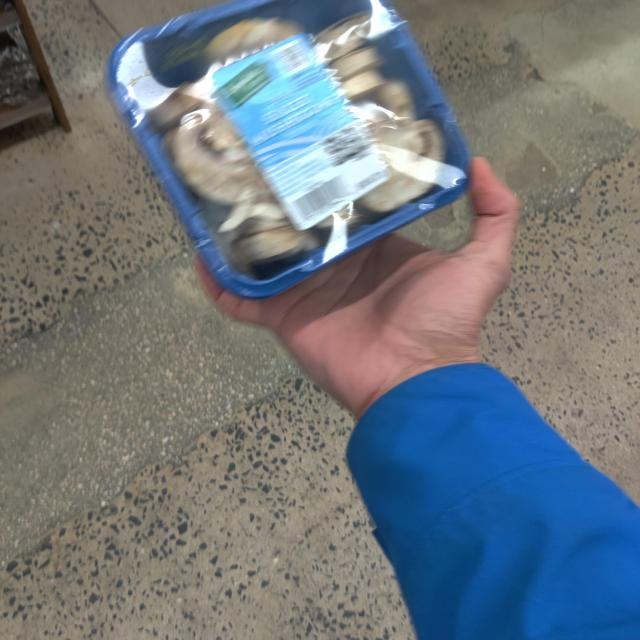Mushrooms: (95, 0, 526, 317)
